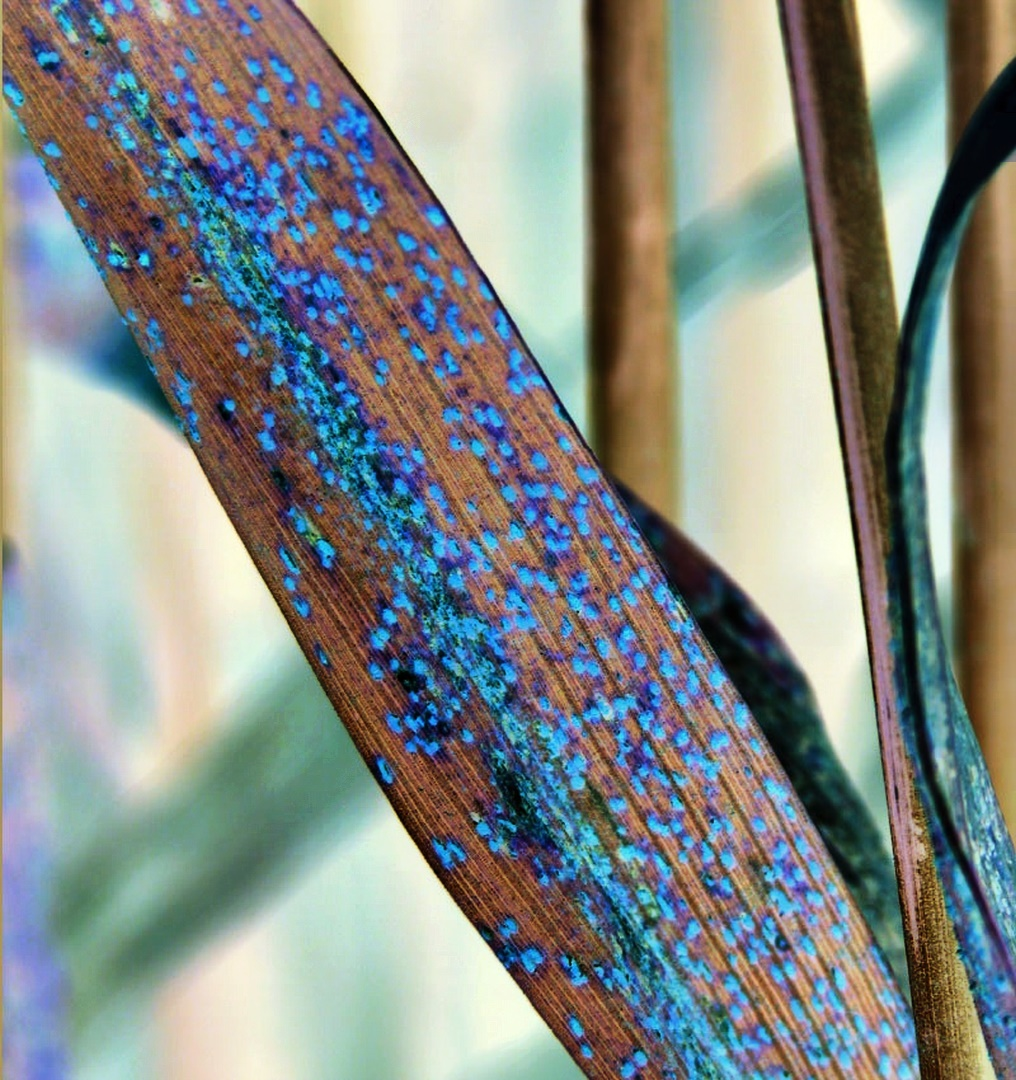Leaf Rust: (59, 46, 843, 1041)
